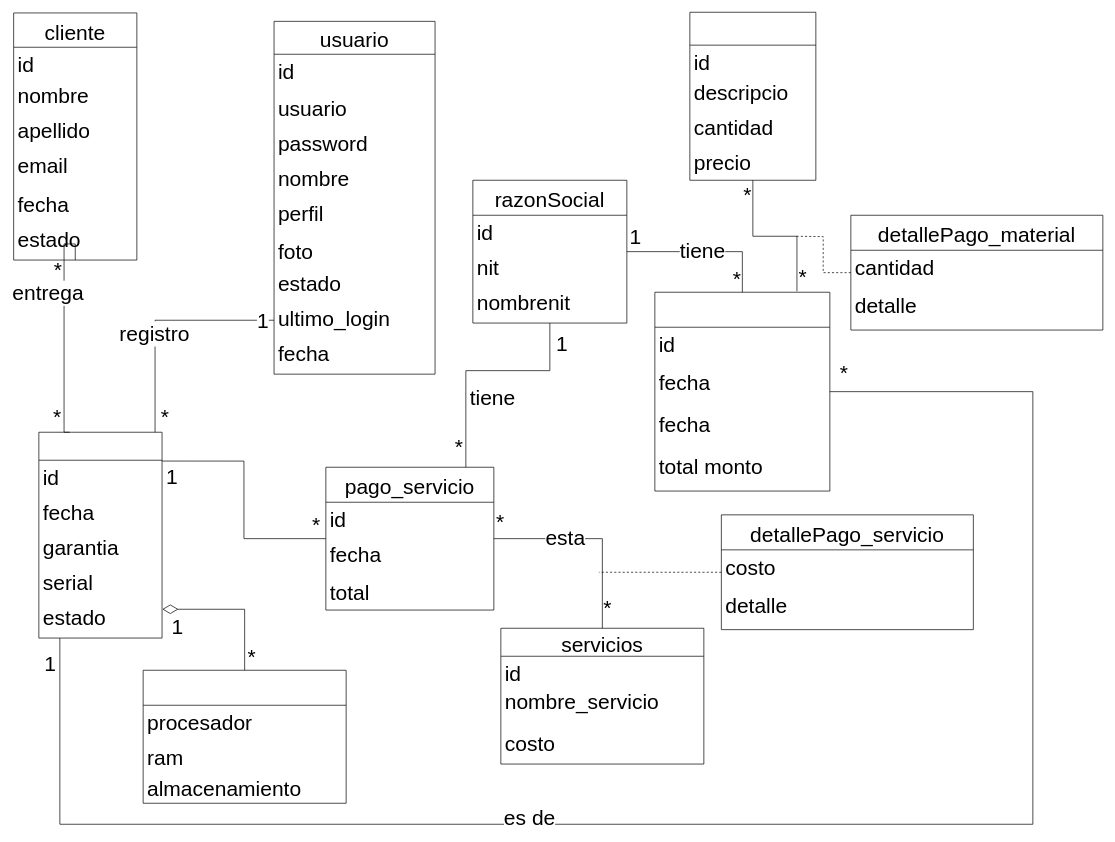
Image size: 1115x842. Some labels were removed from this diagram. Each missing label, with the box of its shape:
detalle_ingreso: (142, 670, 346, 803)
ingreso: (38, 432, 162, 638)
material: (689, 12, 816, 180)
pago_materrial: (654, 292, 830, 491)
